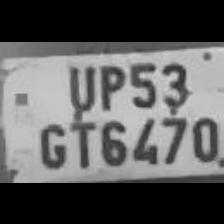0: (186, 110, 220, 162)
3: (157, 56, 189, 107)
4: (130, 112, 159, 164)
5: (124, 58, 158, 108)
6: (95, 116, 127, 166)
7: (158, 111, 184, 164)
G: (33, 118, 67, 168)
P: (93, 60, 125, 110)
T: (68, 114, 96, 168)
U: (62, 58, 96, 111)
